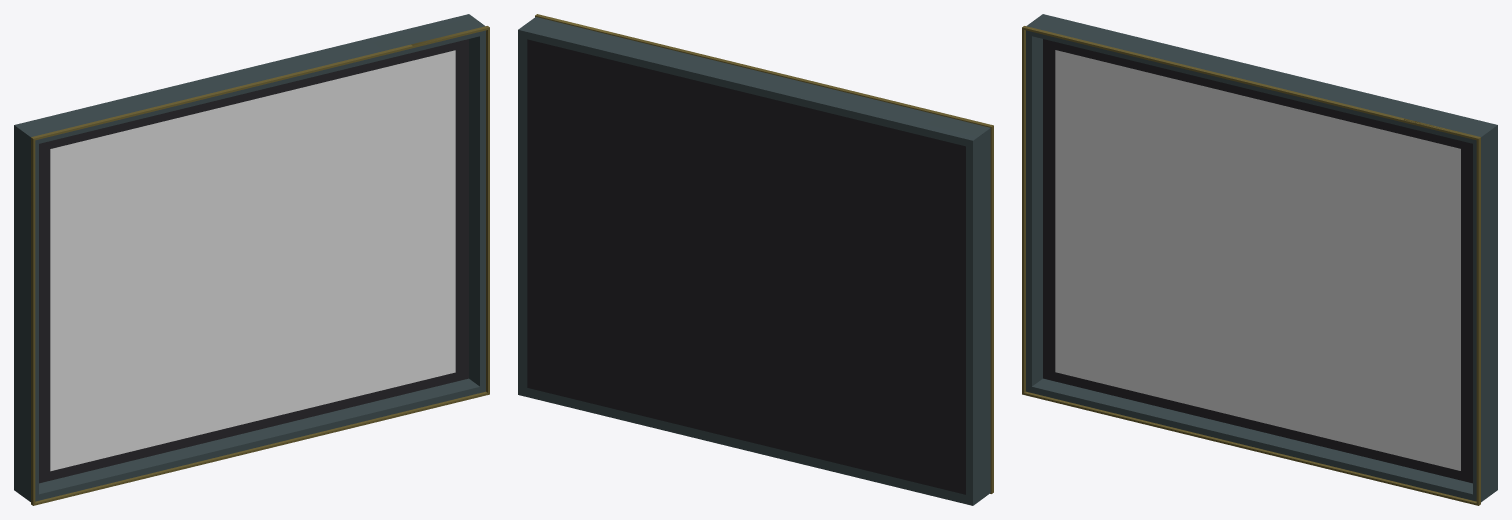
File: frame003_s.glb
3 views of the same model, side by side, from view 1: azimuth 30°, elevation 25°; view 2: azimuth 150°, elevation 25°; view 3: azimuth 330°, elevation 25° (orthographic).
Visible parts, largest first — view 1: canvas_平面, frame_inner_Cube.001, frame_inner_Cube.002, frame_inner_Cube.003, frame_inner_Cube.004; view 2: frame_inner_Cube.002, frame_inner_Cube.001, frame_inner_Cube.003, frame_inner_Cube.004; view 3: canvas_平面, frame_inner_Cube.001, frame_inner_Cube.002, frame_inner_Cube.003, frame_inner_Cube.004.
Part boxes in pixels (box(x1,y1,x2,y2)): canvas_平面: box(50, 50, 455, 471); frame_inner_Cube.001: box(14, 14, 485, 501); frame_inner_Cube.002: box(39, 39, 468, 483); frame_inner_Cube.003: box(31, 26, 489, 505); frame_inner_Cube.004: box(31, 26, 489, 505); frame_inner_Cube.002: box(527, 39, 965, 494); frame_inner_Cube.001: box(518, 17, 990, 505); frame_inner_Cube.003: box(535, 14, 993, 493); frame_inner_Cube.004: box(535, 14, 993, 492); canvas_平面: box(1055, 50, 1460, 470); frame_inner_Cube.001: box(1026, 14, 1497, 502); frame_inner_Cube.002: box(1043, 39, 1472, 483); frame_inner_Cube.003: box(1022, 26, 1480, 505); frame_inner_Cube.004: box(1022, 26, 1480, 505).
Bounding box in the file's own units: 14.58 × 11.2 × 1.11.
